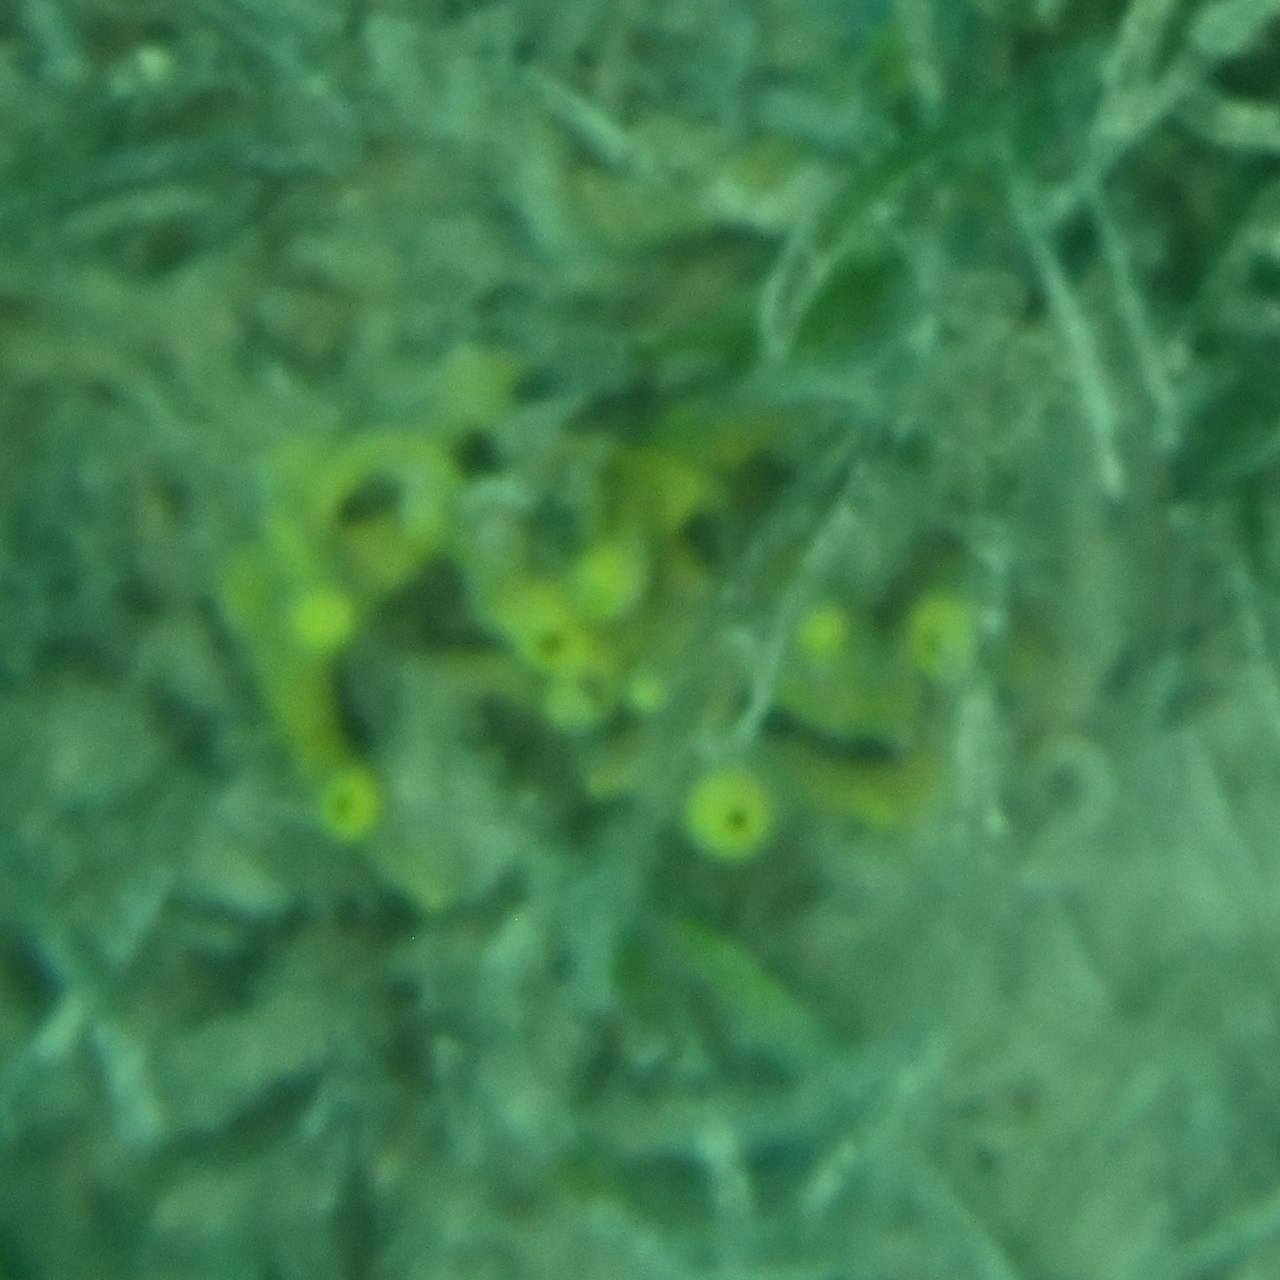Aplysina aerophoba: (220, 362, 1060, 918)
